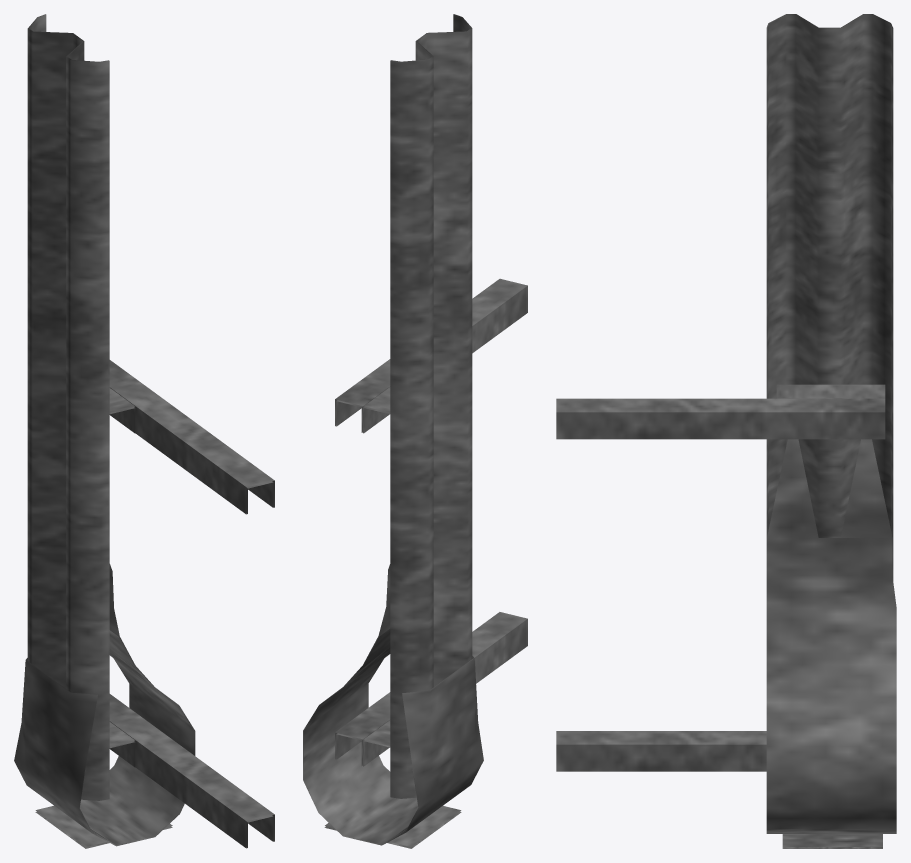
Rendered from swb-end-2.fbx.
3 renders of one model, left to right at view 1: azimuth 30°, elevation 25°; view 2: azimuth 150°, elevation 25°; view 3: azimuth 270°, elevation 25°, orthographic.
Visible parts, largest first — view 1: swb-end-2; view 2: swb-end-2; view 3: swb-end-2.
Part boxes in pixels (bbox=[...]): swb-end-2: bbox=[14, 14, 274, 848]; swb-end-2: bbox=[303, 14, 527, 848]; swb-end-2: bbox=[556, 14, 896, 848].
Size of the model in its own units: 32.91 by 214 by 83.94.
